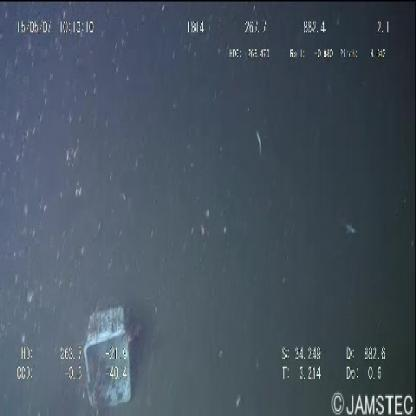Rác: (79, 299, 135, 414)
